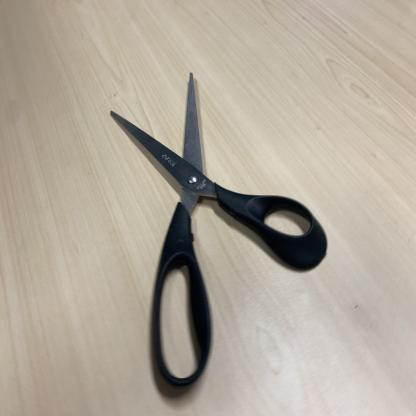scissors: (110, 71, 325, 402)
